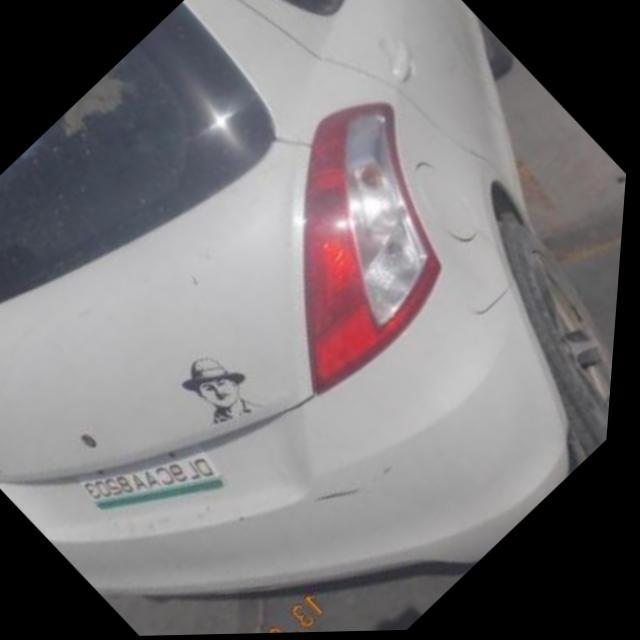scratch: (318, 461, 410, 508)
